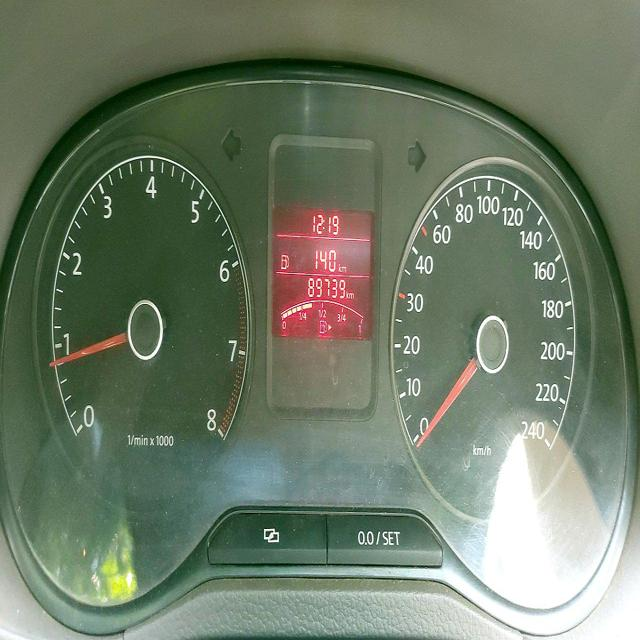odometer: (307, 274, 346, 301)
